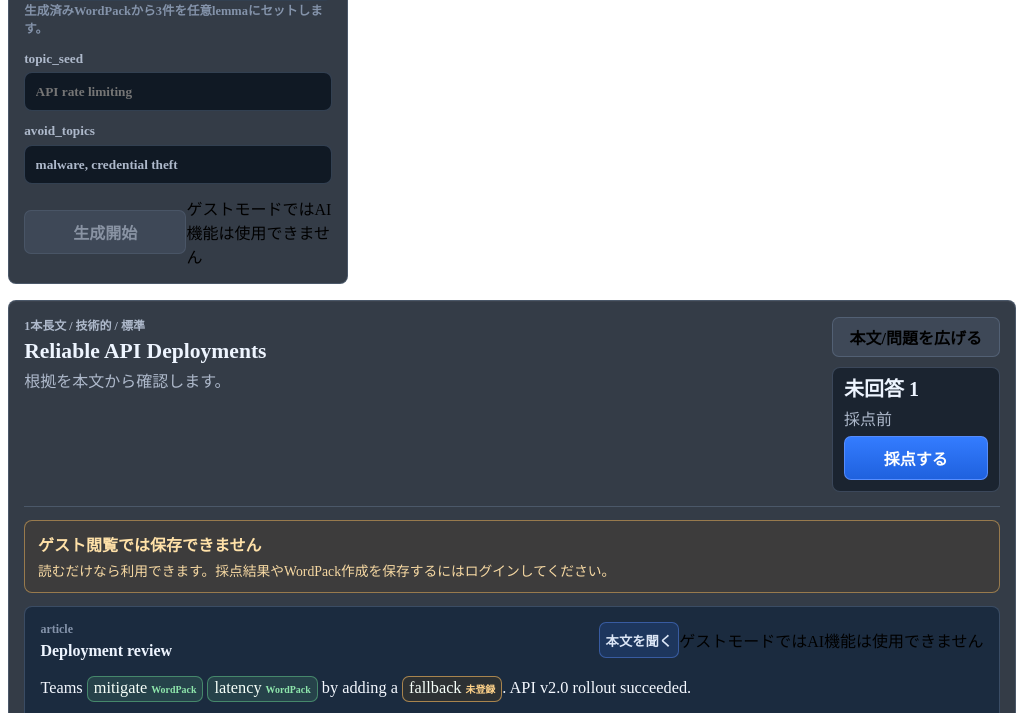
Test: QuizPage › switches the selected quiz detail into a full-width reading layout
(page scrolled)
Expected: the heading "Reliable API Deployments" is shown, [24, 338, 266, 362]
Click the button "本文/問題を広げる" at point(916, 337), box [832, 316, 1000, 357]
(page scrolled)
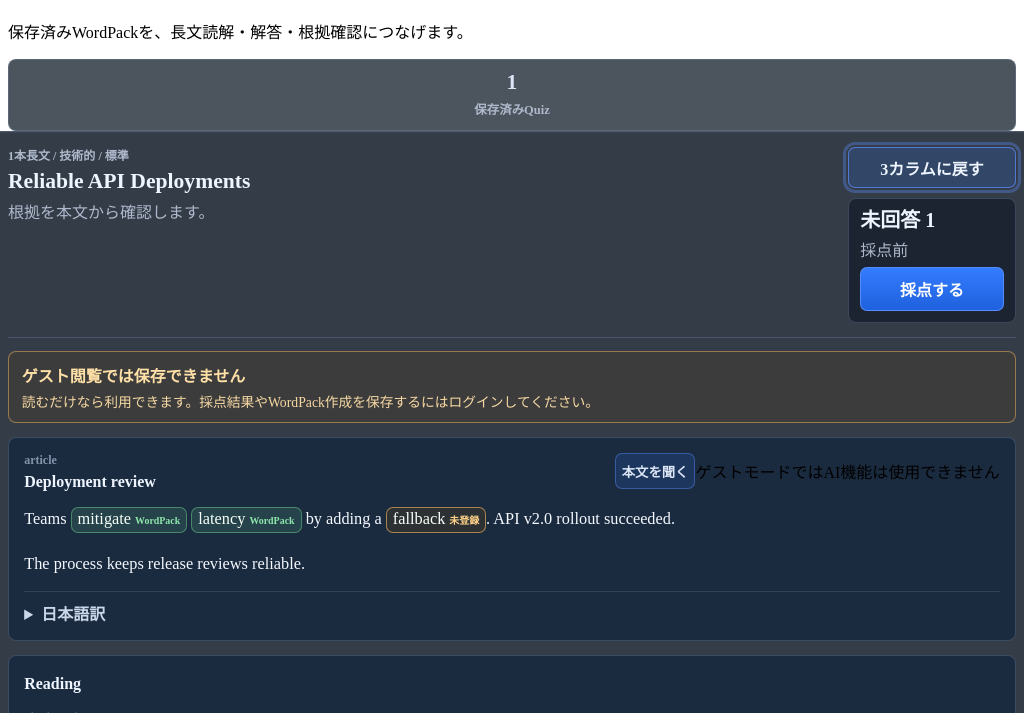
Now the button "3カラムに戻す" is pressed
Click the button "3カラムに戻す" at point(932, 168), box [848, 147, 1016, 188]
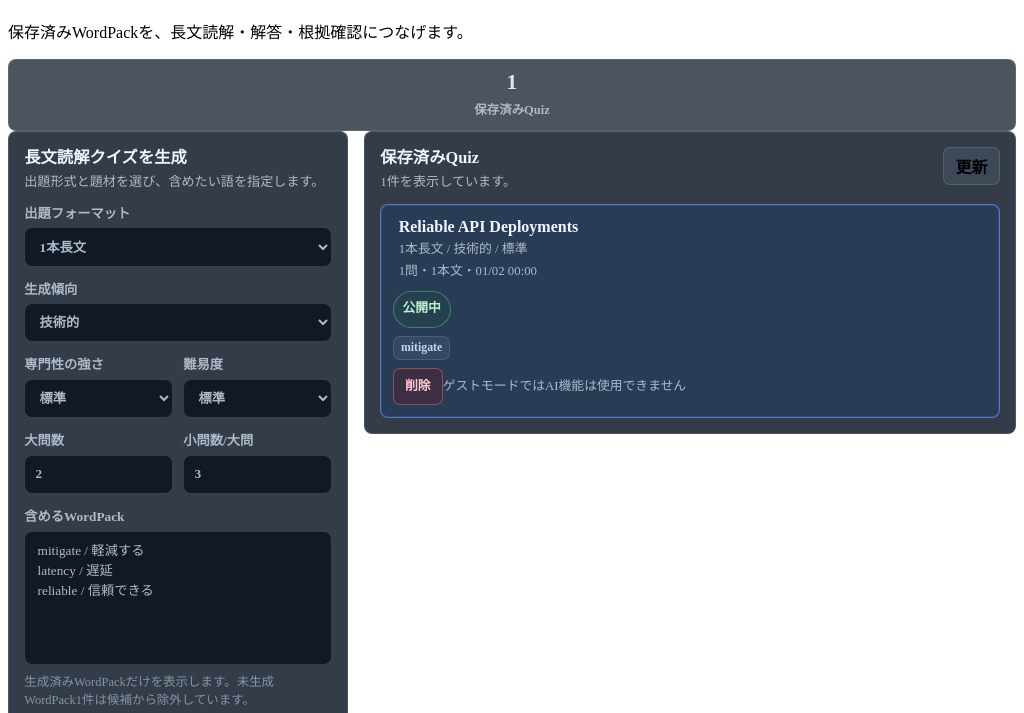
Now the element "保存済みQuiz" is shown, box [364, 131, 1016, 434]
